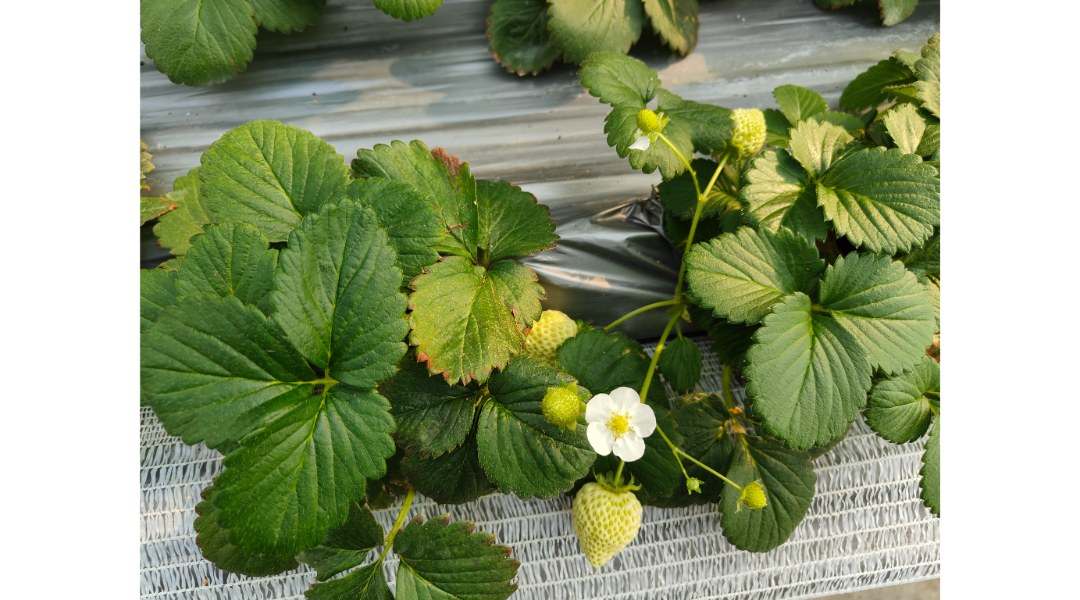berry: (562, 479, 652, 574), (525, 299, 589, 358), (724, 89, 771, 159), (628, 98, 679, 144), (544, 376, 577, 446), (739, 480, 775, 511)
flower: (584, 378, 659, 470)
strain: (643, 322, 677, 405), (671, 209, 699, 307), (698, 154, 727, 209)
